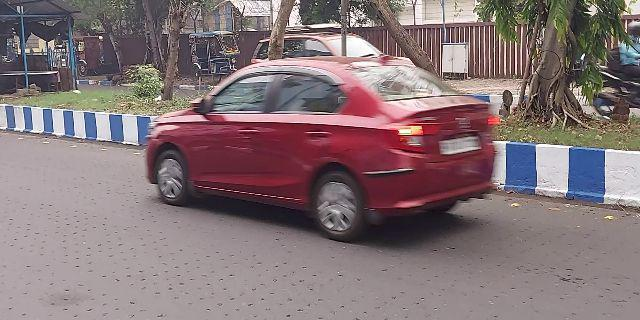Car: (150, 49, 498, 246)
